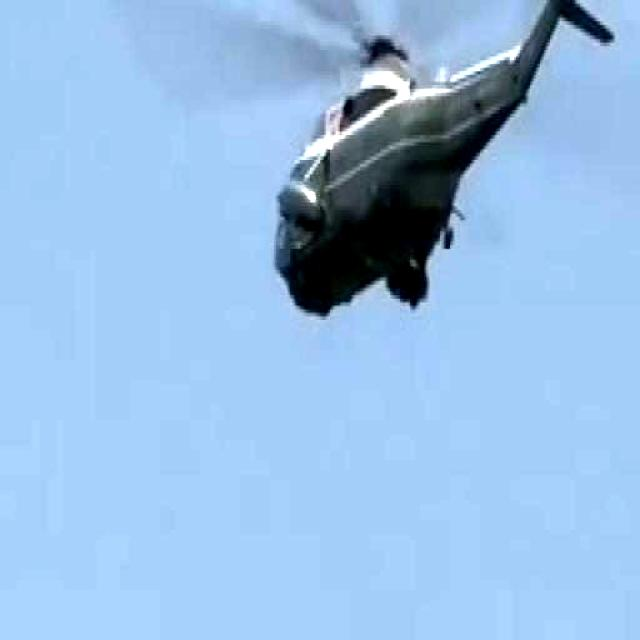drone: (101, 0, 625, 342)
